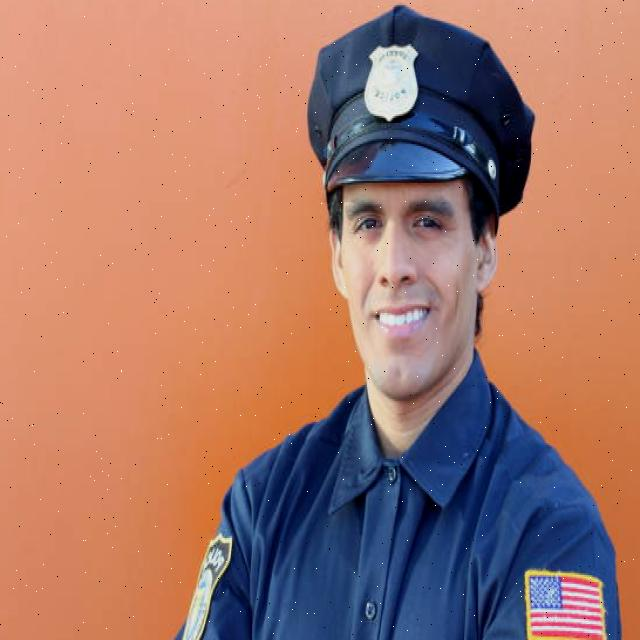police: (163, 37, 618, 640)
